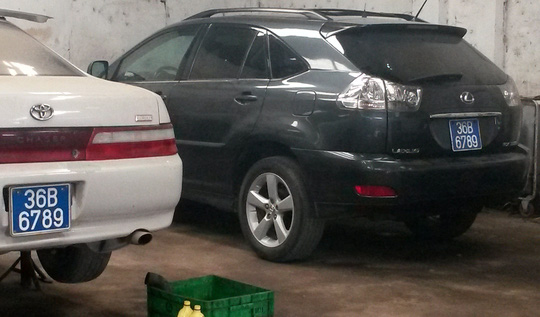plate: (7, 181, 73, 236), (446, 114, 483, 153)
